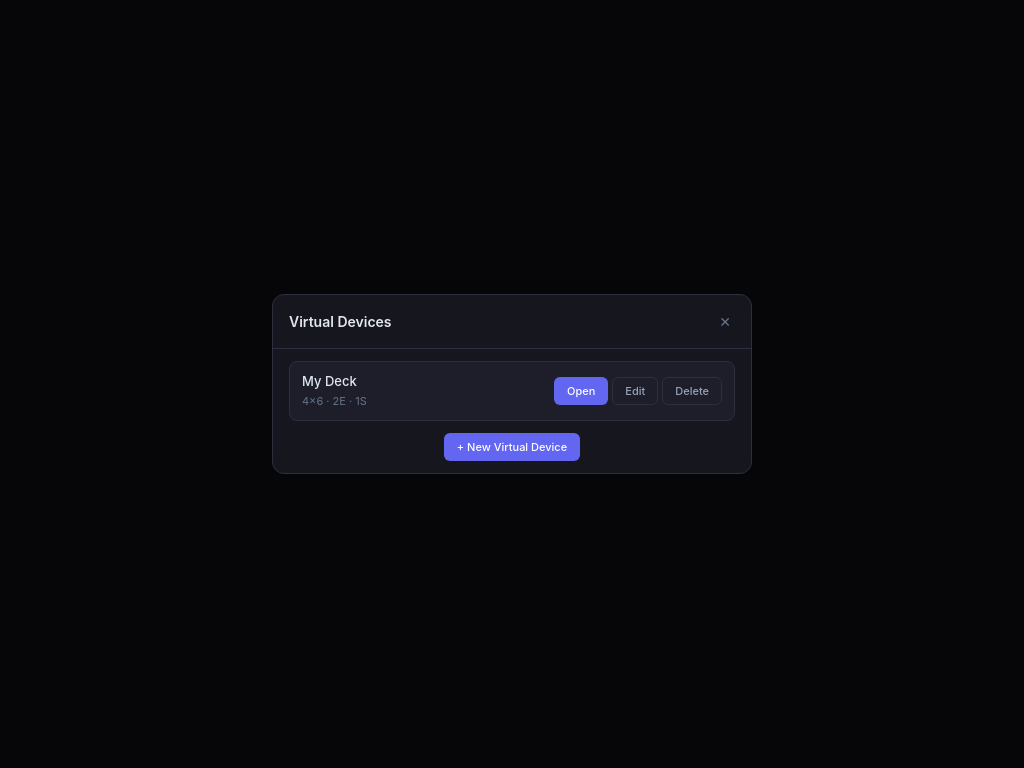
Test: VirtualDevicePanel › edit form › should show Edit Device title when editing
The image size is (1024, 768).
Click the button "Edit". click: (635, 391)
box: [612,376,658,405]
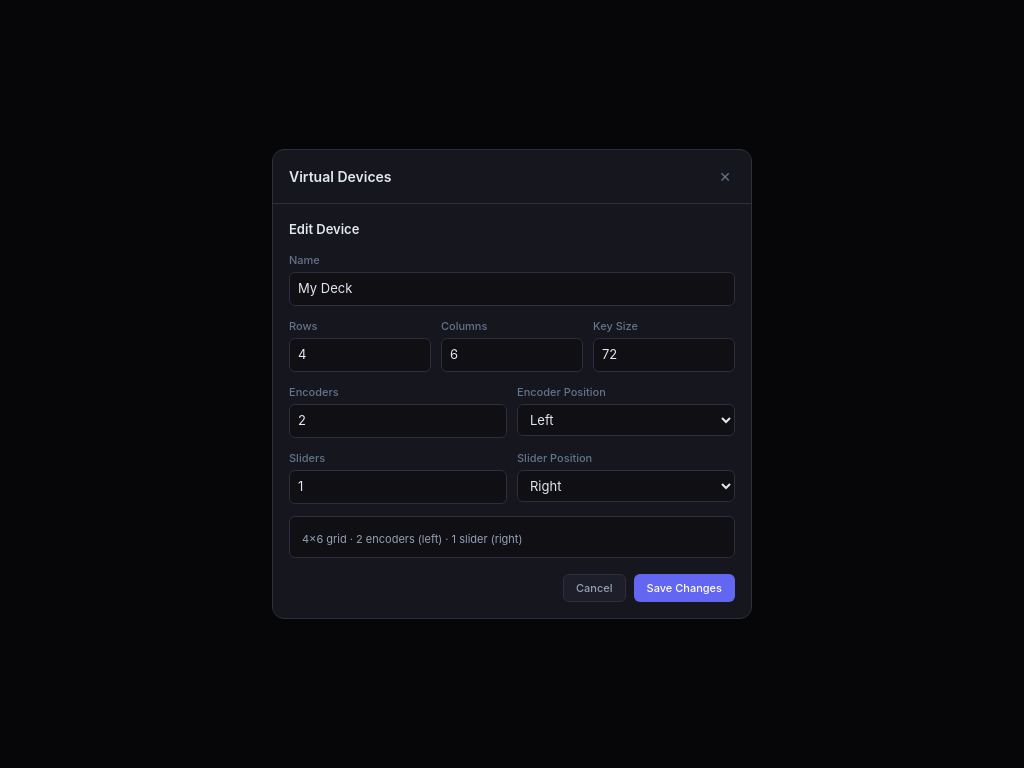
Check: the heading "Edit Device" is shown, box [289,221,359,237]
